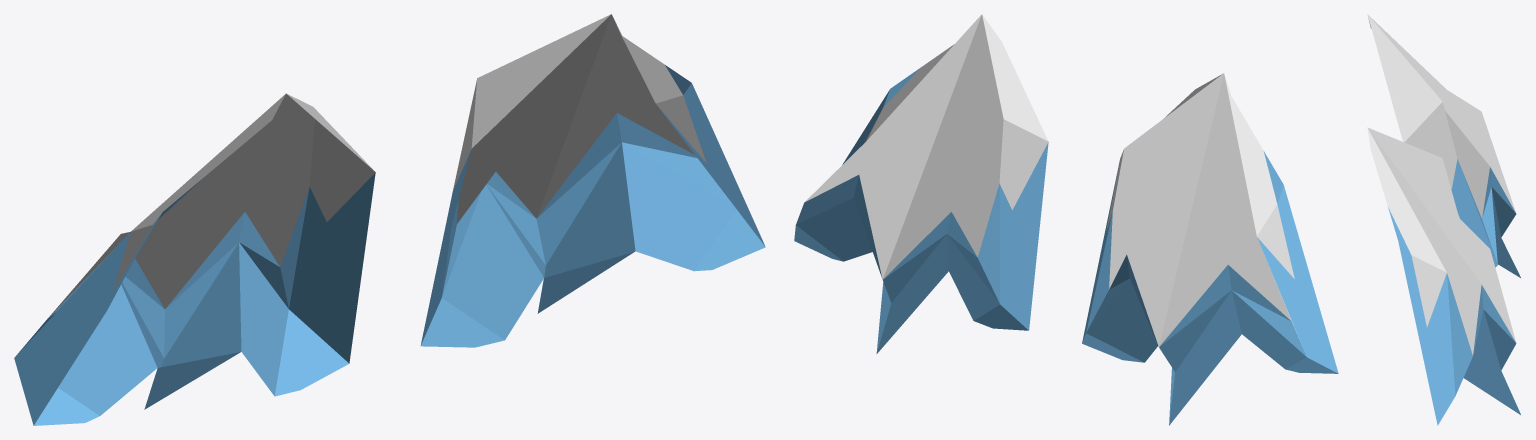
File: playerMechFlames.fbx
3 views of the same model, side by side, from view 1: azimuth 30°, elevation 25°; view 2: azimuth 150°, elevation 25°; view 3: azimuth 270°, elevation 25° (orthographic). The views are drawn at different scales.
Parts seen in each view (by area): view 1: PlayerMechFlames; view 2: PlayerMechFlames; view 3: PlayerMechFlames.
Part boxes in pixels (x1,y1,x2,y2): PlayerMechFlames: (14,14,765,425); PlayerMechFlames: (794,14,1338,425); PlayerMechFlames: (1367,14,1520,425).
Size of the model in its own units: 215 by 109 by 54.87.
